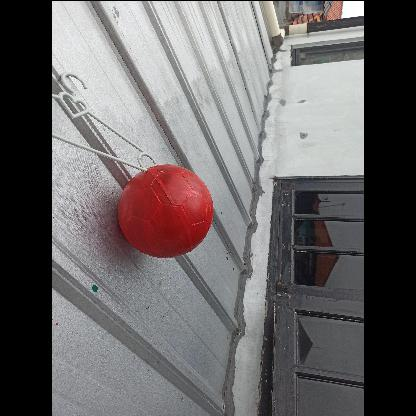red_ball: (120, 162, 216, 258)
